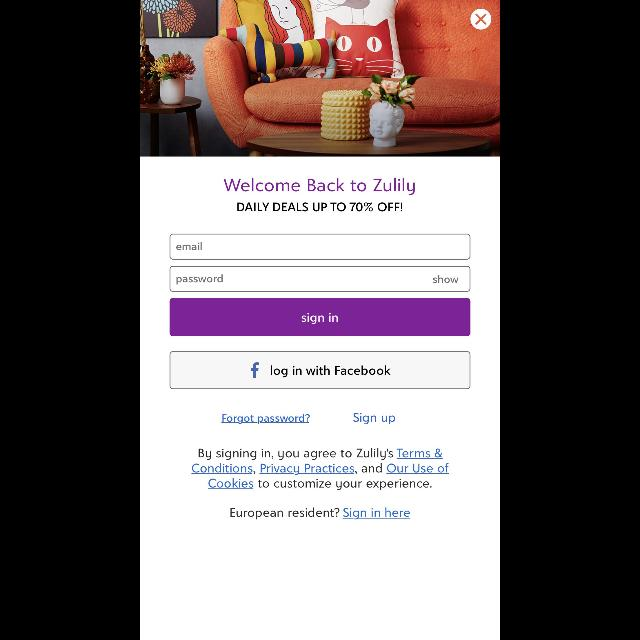icon: (471, 8, 492, 30)
image: (140, 1, 500, 157)
input: (170, 234, 470, 260), (170, 266, 470, 292)
text: (192, 448, 448, 490), (223, 178, 414, 196), (230, 506, 410, 520), (238, 202, 402, 212), (222, 414, 310, 424), (177, 274, 223, 286), (353, 413, 395, 425), (176, 242, 202, 250), (433, 275, 459, 283)
textbutton: (170, 298, 470, 336), (170, 351, 470, 389)
